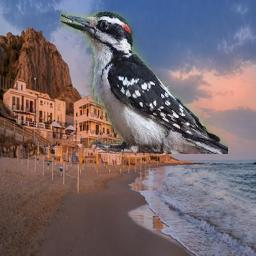Woodpecker: (60, 11, 228, 154)
